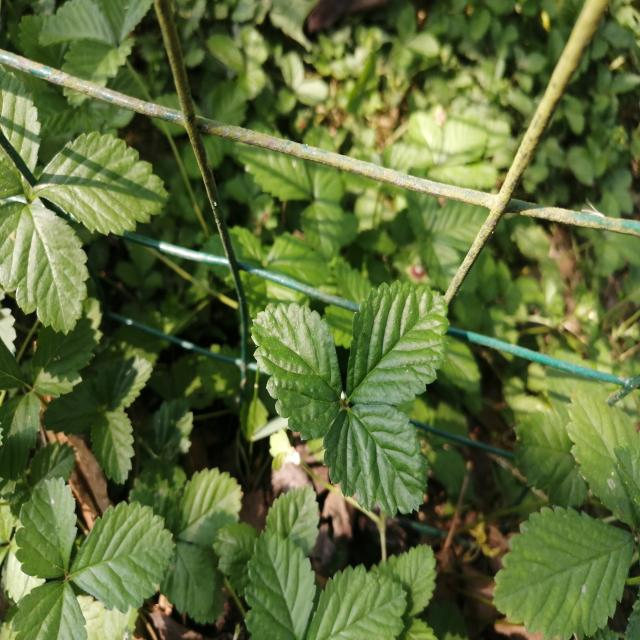Mock_strawberry: (240, 245, 451, 508)
